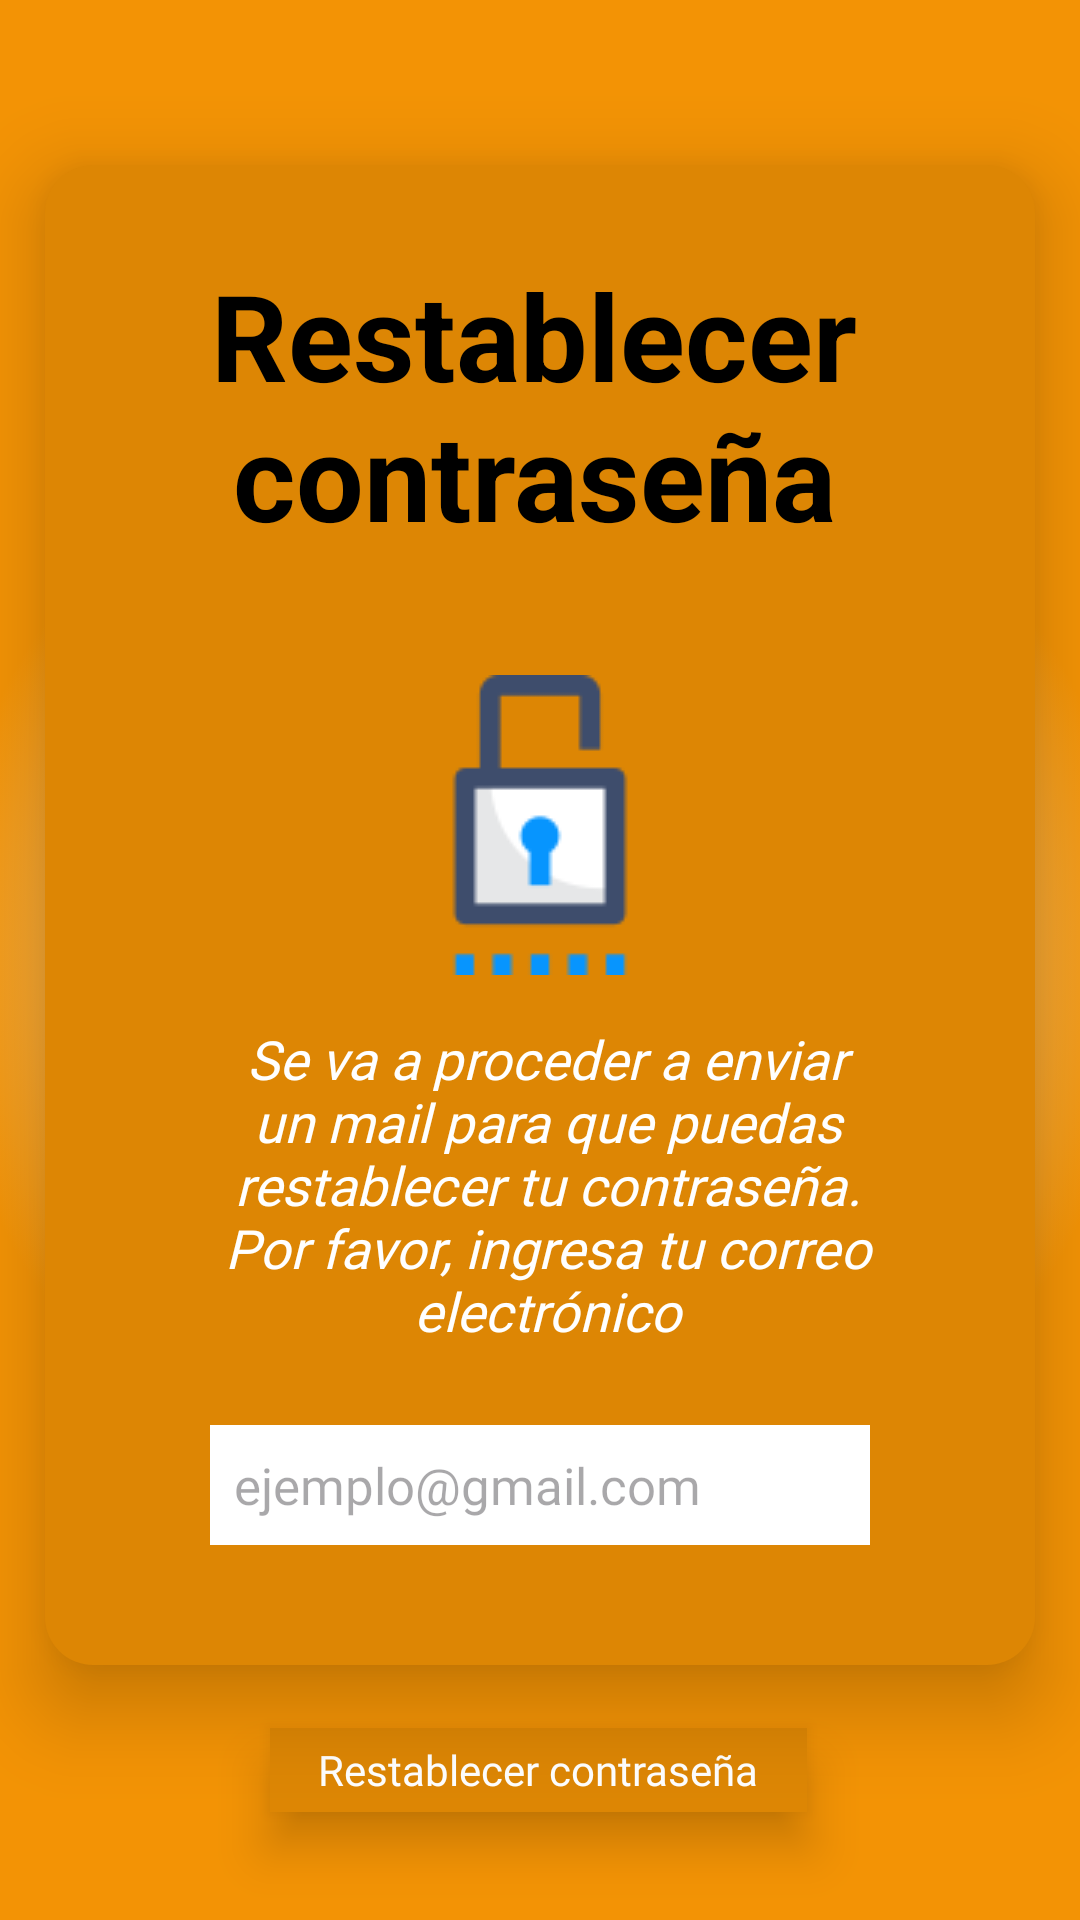

Icons on this 1080w x 1920h Android screen, each with the point to tap as (x=x, y=y):
changepassword: (x=540, y=825)
